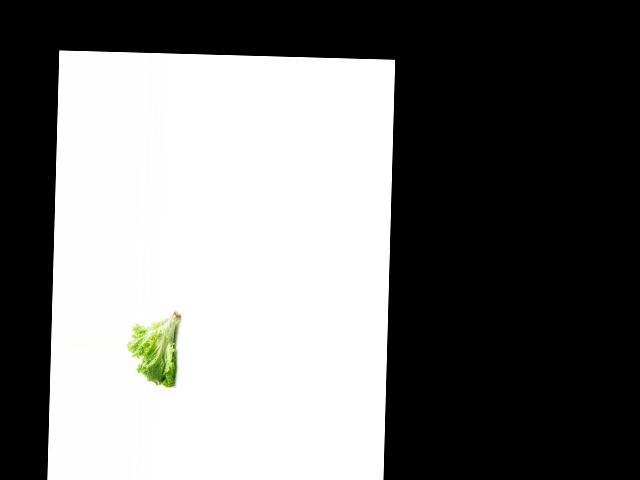lettuce: (125, 308, 182, 387)
